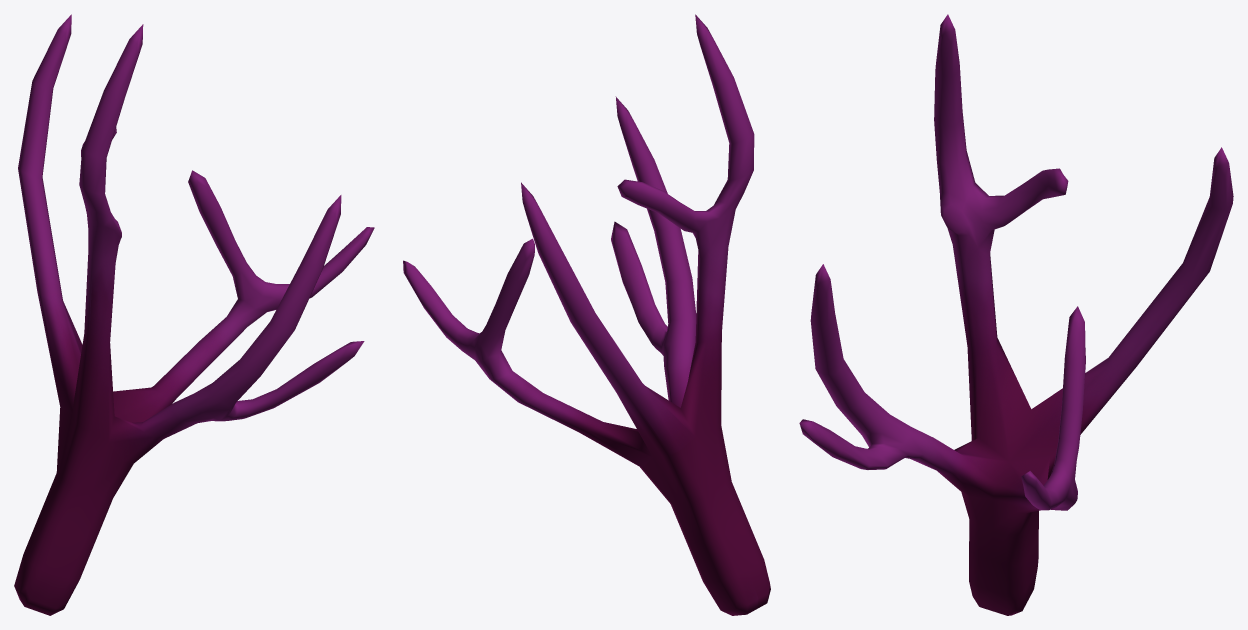
Rendered from coral.fbx.
The picture shows the model from 3 angles, left to right: view 1: azimuth 30°, elevation 25°; view 2: azimuth 150°, elevation 25°; view 3: azimuth 270°, elevation 25°; orthographic projection. The views are drawn at different scales.
Visible parts, largest first — view 1: pCube2; view 2: pCube2; view 3: pCube2.
Part boxes in pixels (x1=…): pCube2: x1=14, y1=14, x2=374, y2=615; pCube2: x1=403, y1=14, x2=770, y2=615; pCube2: x1=799, y1=14, x2=1233, y2=615.
Bounding box in the file's own units: 0.5653 × 0.8639 × 0.5332.
1 material, 1 textured.
